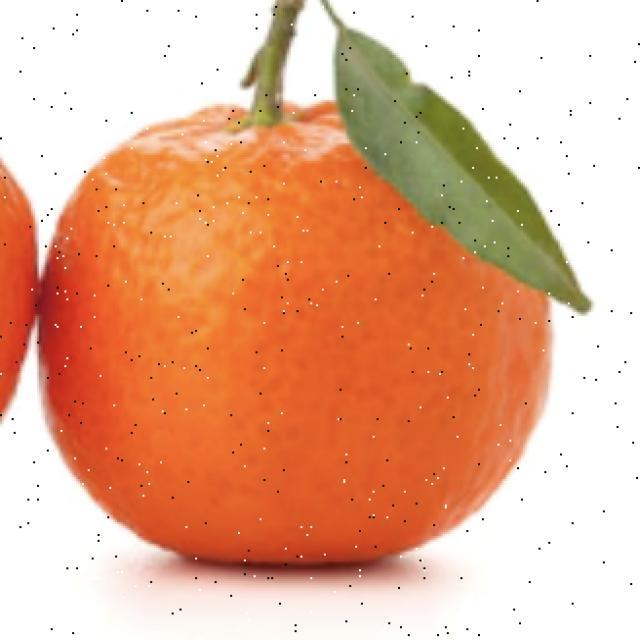Orange: (36, 96, 554, 567)
